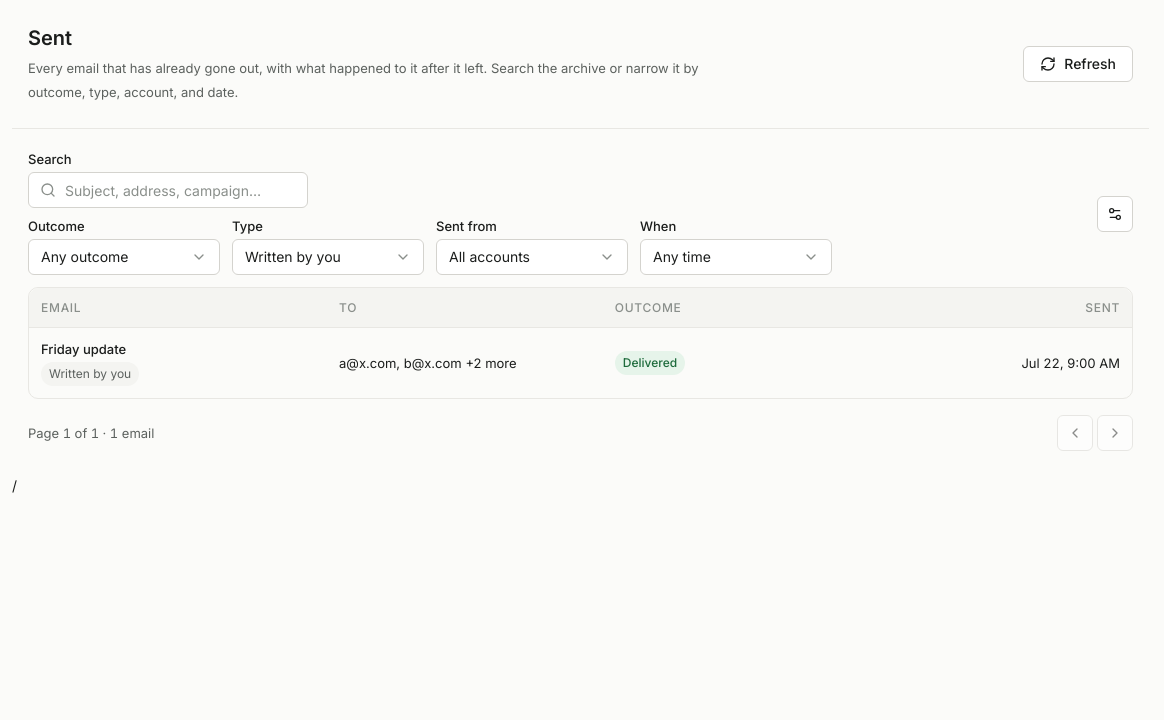
Sent › clears every filter at once
This screenshot has width=1164, height=720.
expect the text "Friday update" is shown: met, box [41,341,126,357]
Step 1. Type "launch" into the search field labelled "Search" → (168, 190), box [28,172,308,208]
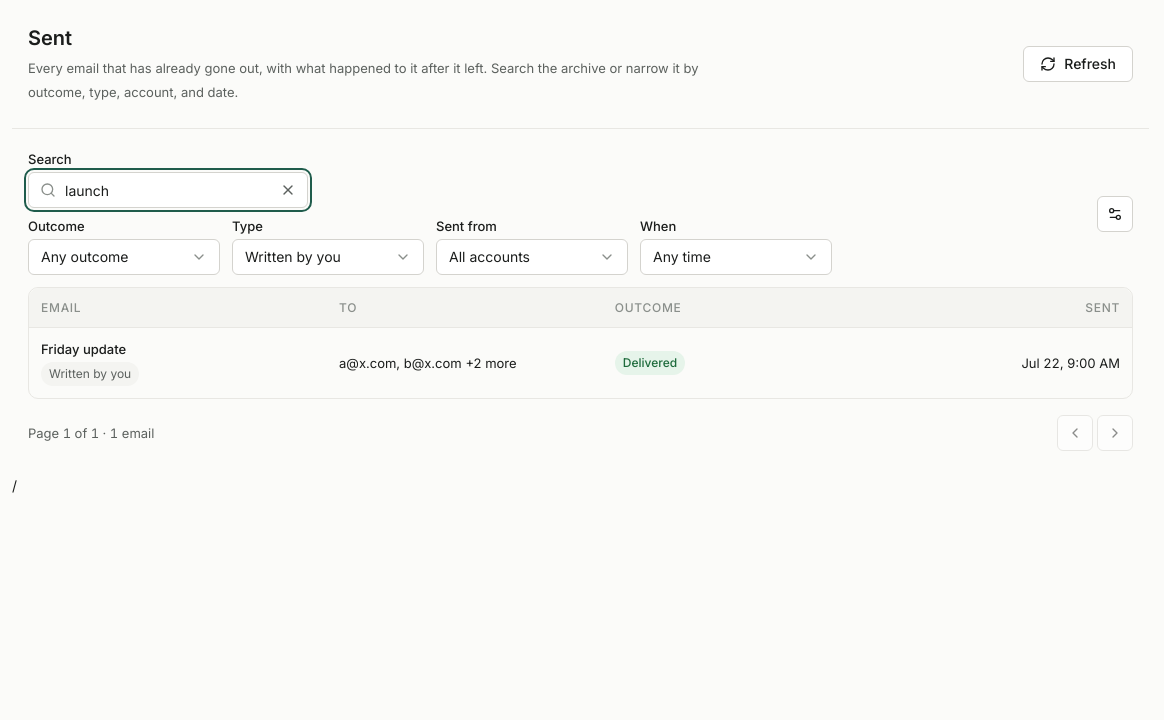
Step 2. Click the dropdown labelled "outcome" → (124, 257), box [28,239,220,275]
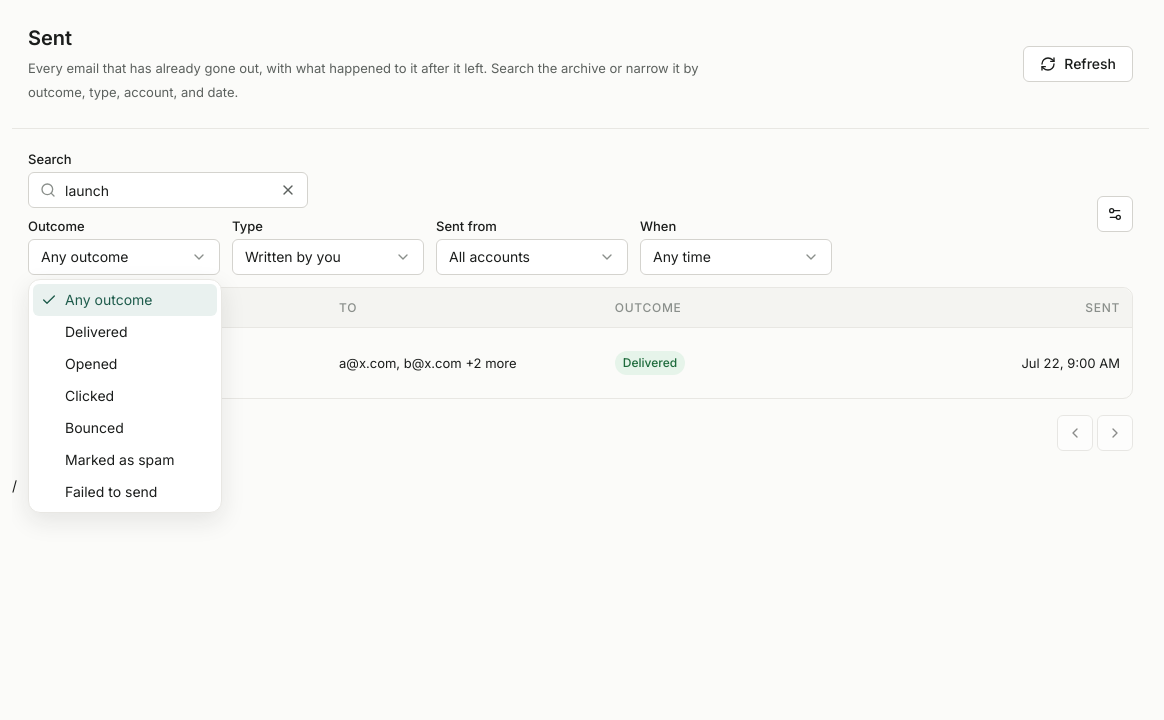
Step 3. Click the option "Opened" → (91, 364), box [65,355,118,372]
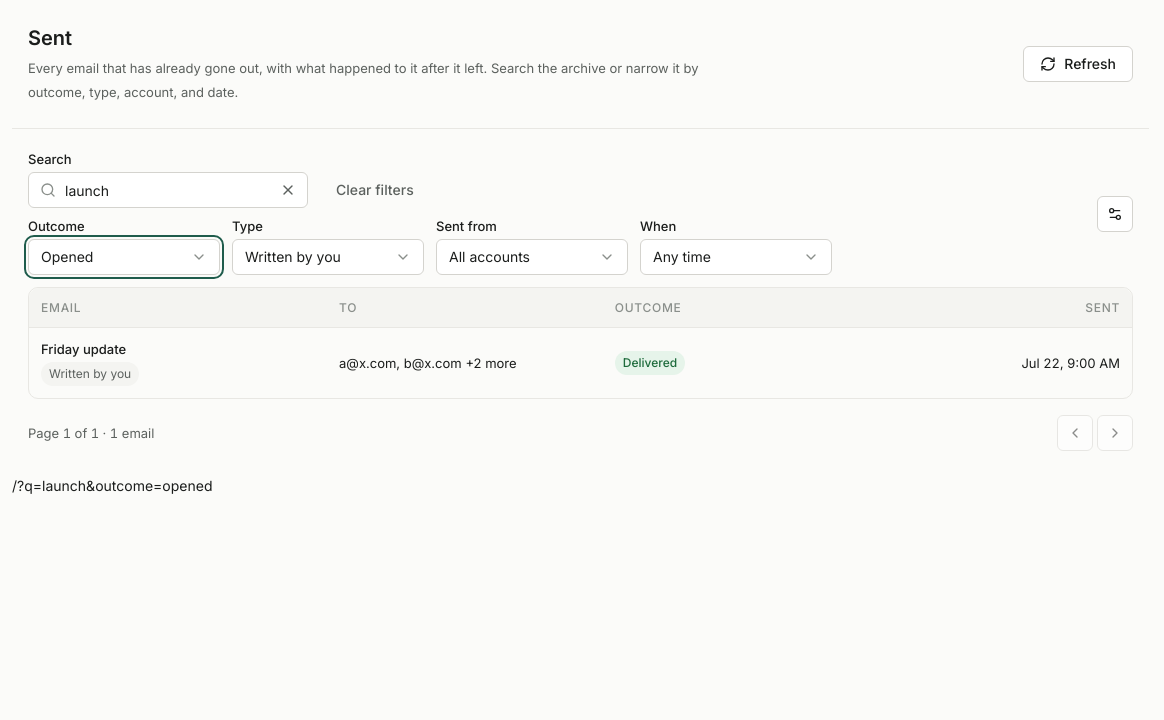
Step 4. Click the button "Clear filters" → (375, 190), box [320,172,430,208]
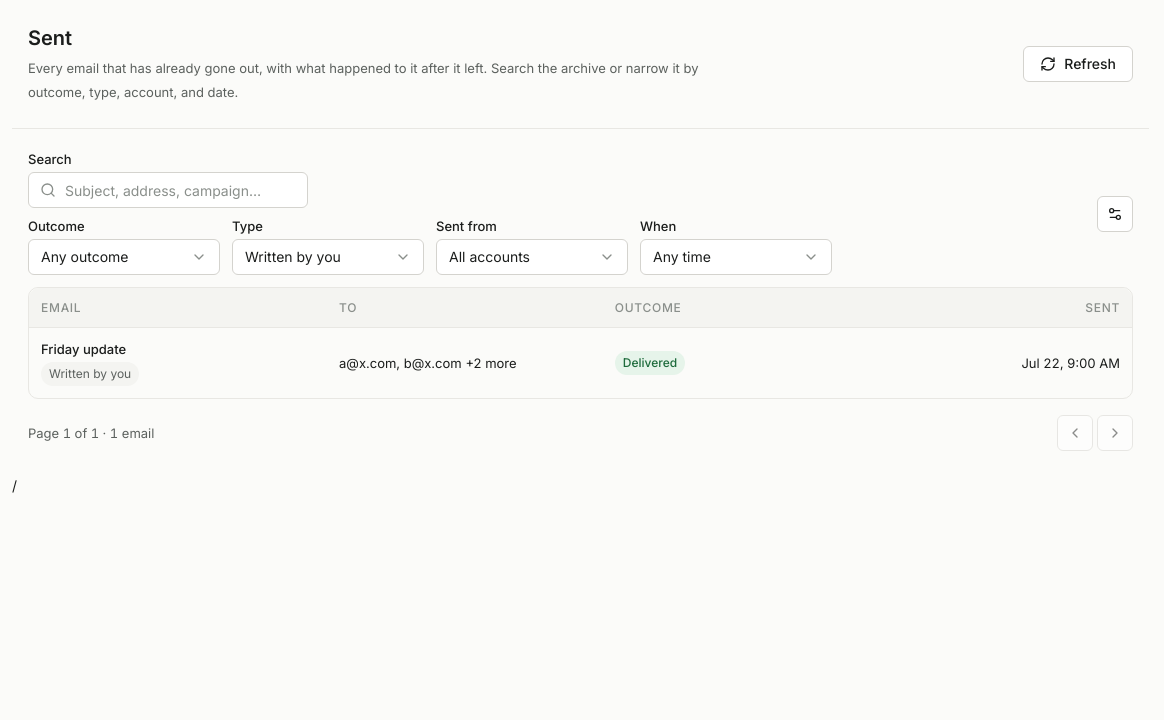
expect the search field labelled "Search" is empty: met, box [28,172,308,208]
